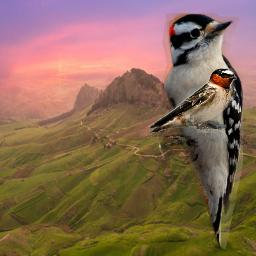Swallow: (148, 67, 237, 133)
Woodpecker: (159, 13, 243, 249)
